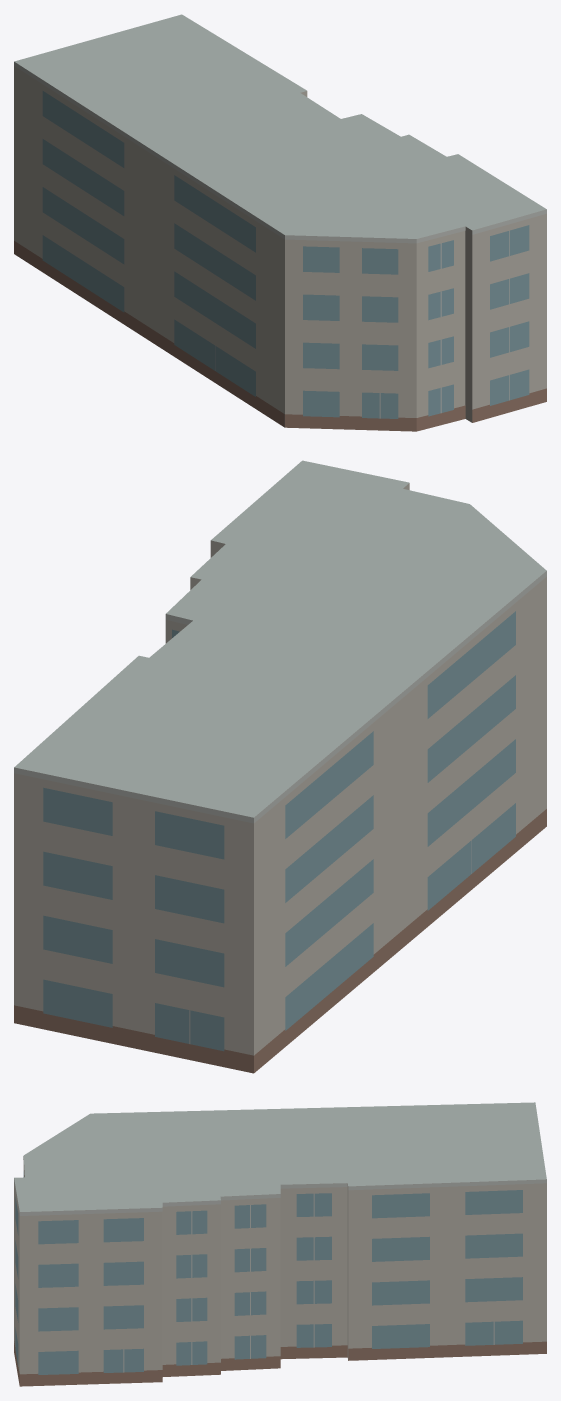
The model's file is survey-upis-32988375.glb.
The picture shows the model from 3 angles, top to bottom: view 1: azimuth 30°, elevation 25°; view 2: azimuth 150°, elevation 25°; view 3: azimuth 270°, elevation 25°; orthographic projection. The views are drawn at different scales.
Visible parts, largest first — view 1: survey-upis-32988375.tmp; view 2: survey-upis-32988375.tmp; view 3: survey-upis-32988375.tmp.
Boxes of the visible parts, x1,y1,x2,y2 form: survey-upis-32988375.tmp: [14, 14, 546, 431]; survey-upis-32988375.tmp: [14, 460, 546, 1073]; survey-upis-32988375.tmp: [14, 1102, 546, 1386].
Size of the model in its own units: 14.58 by 10.8 by 29.92.
